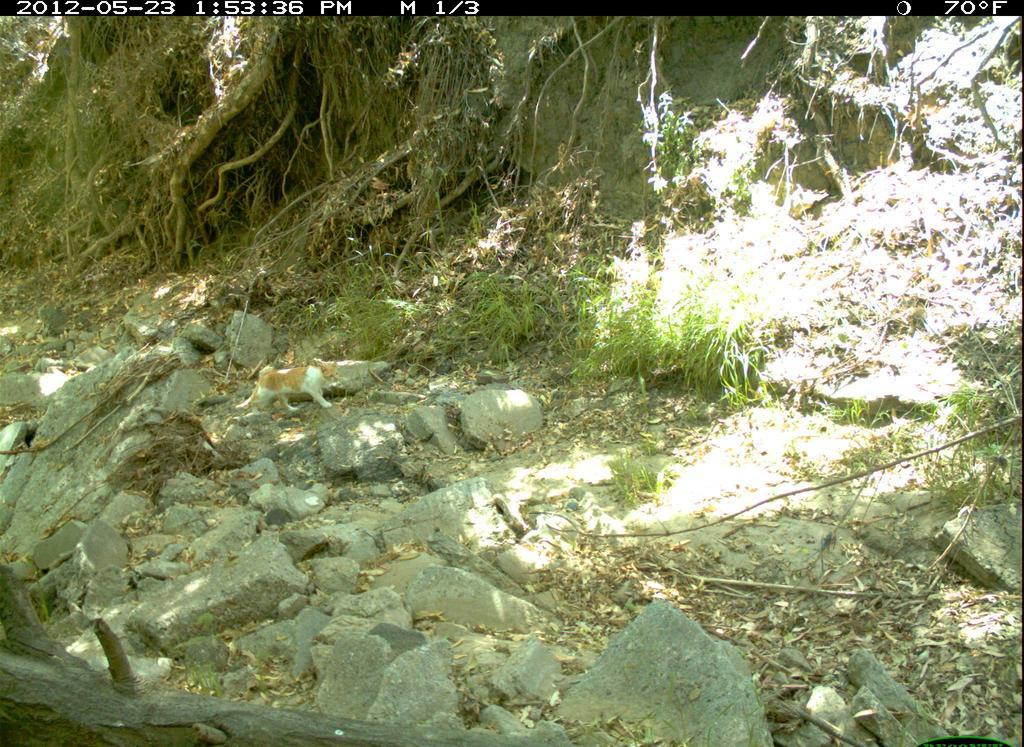cat: (237, 355, 345, 422)
